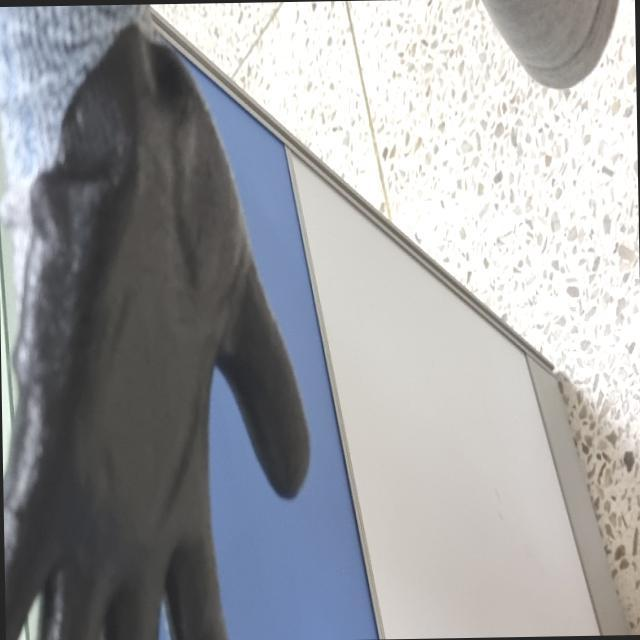Gloves: (0, 4, 317, 640)
